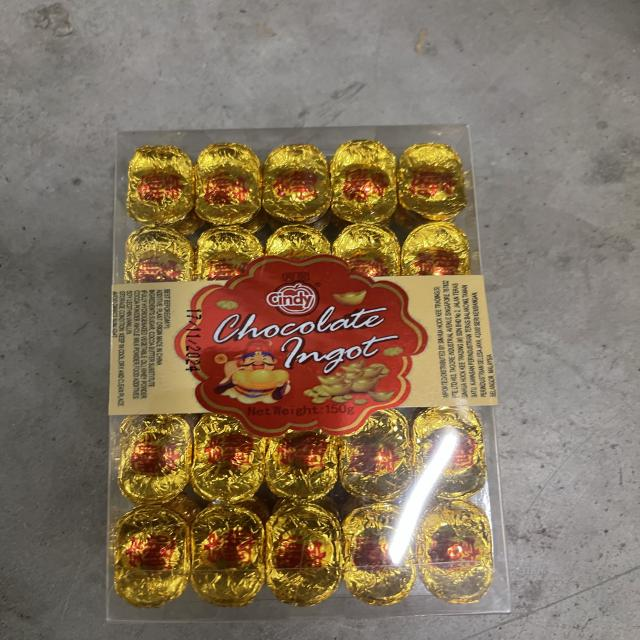object_name: (108, 129, 508, 612)
